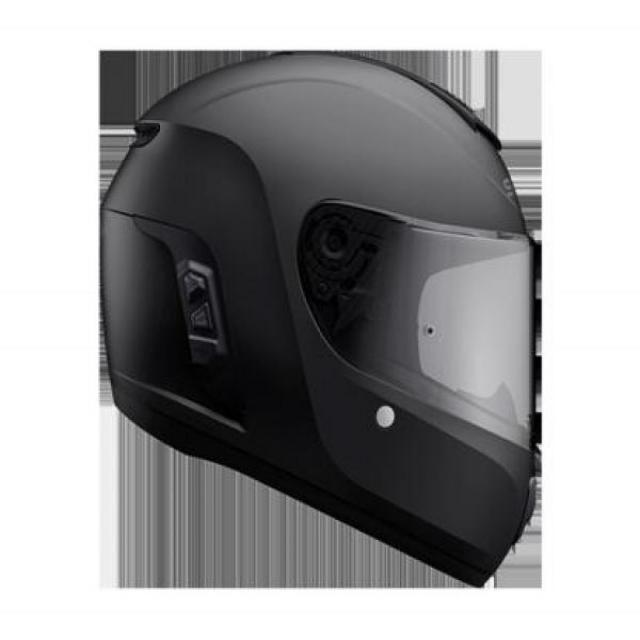Helmet: (101, 53, 541, 591)
